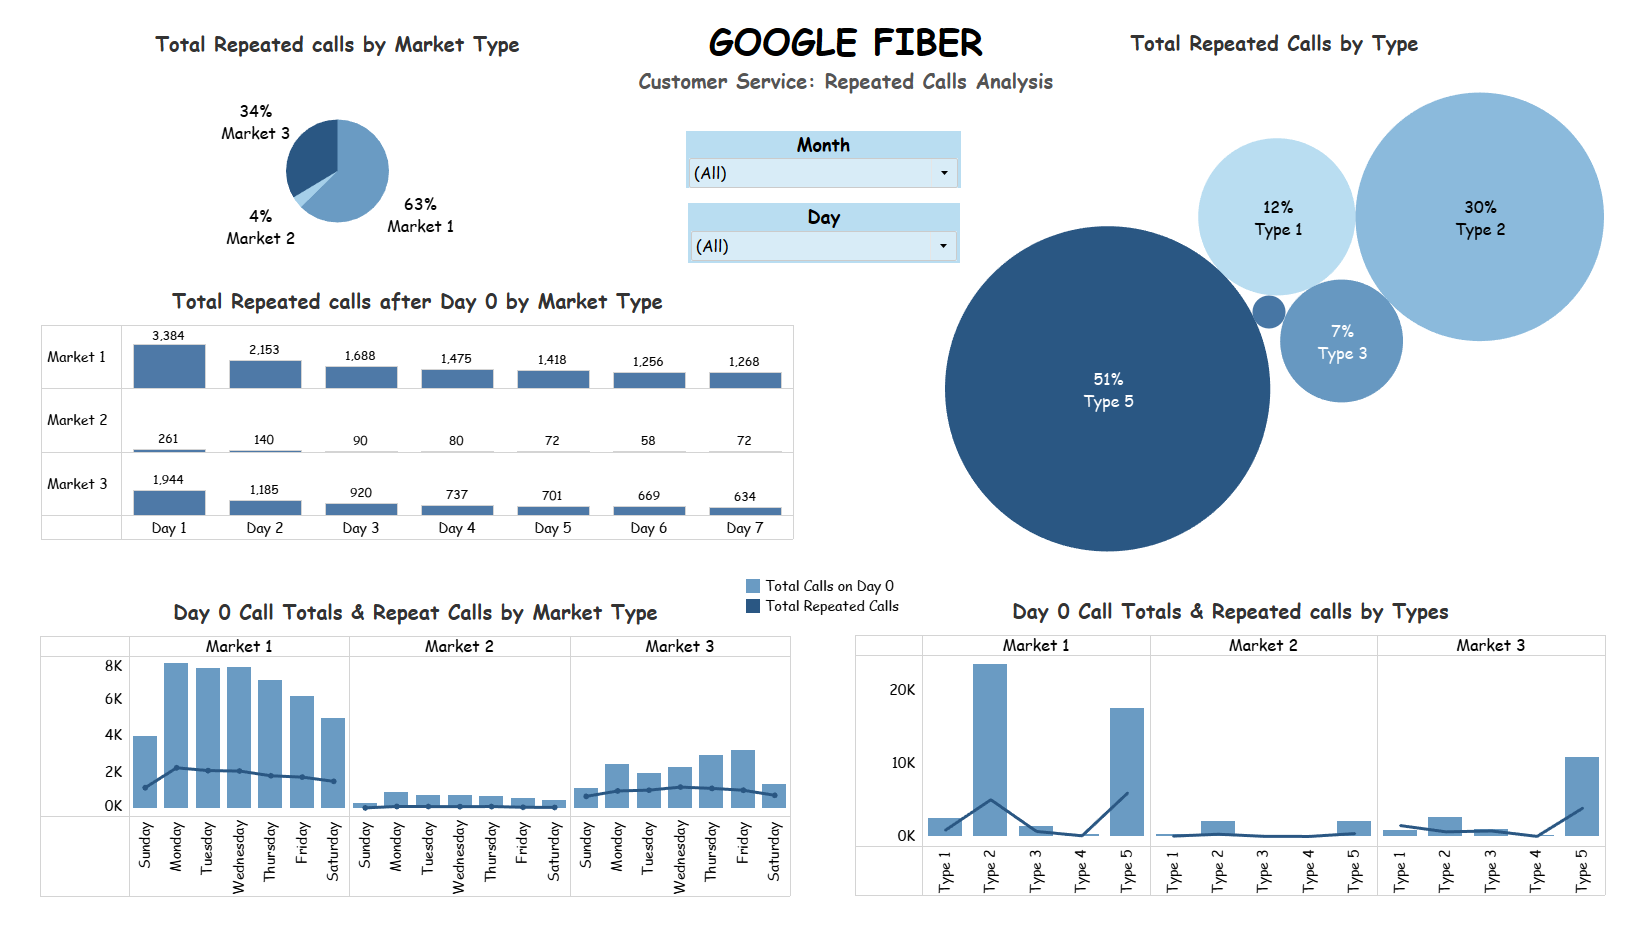

The page's visual inventory and layout, read from the dashboard file:
{"tool":"tableau","page":{"name":"Google Fiber Dashboard","canvas":[1600,900],"ordinal":0},"visuals":[{"type":"worksheet","title":"type with most repeated calls","mark":"Circle","box":[922,16,659,553]},{"type":"filter","title":"market type: Total calls and repeated calls","param":"[federated.089njjk11z4zxa1c890dp17vj7g0].[none:Month:nk]","box":[663,123,275,57]},{"type":"filter","title":"market type: Total calls and repeated calls","param":"[federated.089njjk11z4zxa1c890dp17vj7g0].[none:Day:nk]","box":[665,195,272,60]},{"type":"worksheet","title":"Total Rpeated calls afte day 0","mark":"Automatic","rows":["new_market"],"box":[18,274,753,258]},{"type":"legend","title":"market type: Total calls and repeated calls","param":"[federated.089njjk11z4zxa1c890dp17vj7g0].[:Measure Names]","box":[720,568,224,70]},{"type":"worksheet","title":"Types: Total calls and repeated calls","mark":"Automatic","rows":["contacts_n","Calculation_1089871125056245760"],"cols":["new_market","new_type"],"box":[832,584,751,304]},{"type":"worksheet","title":"market type: Total calls and repeated calls","mark":"Automatic","rows":["contacts_n","Calculation_1089871125056245760"],"cols":["new_market","Day"],"box":[17,585,751,304]}]}

Visuals, with their boxes in screenshot pixels (x1, y1, x2, y2), scaled from the page's 1600x900 canvas onto the 1637x934 screenshot:
"type with most repeated calls" worksheet (Circle marks): [left=943, top=17, right=1618, bottom=590]
"market type: Total calls and repeated calls" filter: [left=678, top=128, right=960, bottom=187]
"market type: Total calls and repeated calls" filter: [left=680, top=202, right=959, bottom=265]
"Total Rpeated calls afte day 0" worksheet: [left=18, top=284, right=789, bottom=552]
"market type: Total calls and repeated calls" legend: [left=737, top=589, right=966, bottom=662]
"Types: Total calls and repeated calls" worksheet: [left=851, top=606, right=1620, bottom=922]
"market type: Total calls and repeated calls" worksheet: [left=17, top=607, right=786, bottom=923]
